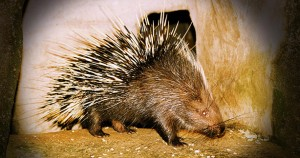porcupine: (40, 20, 236, 149)
